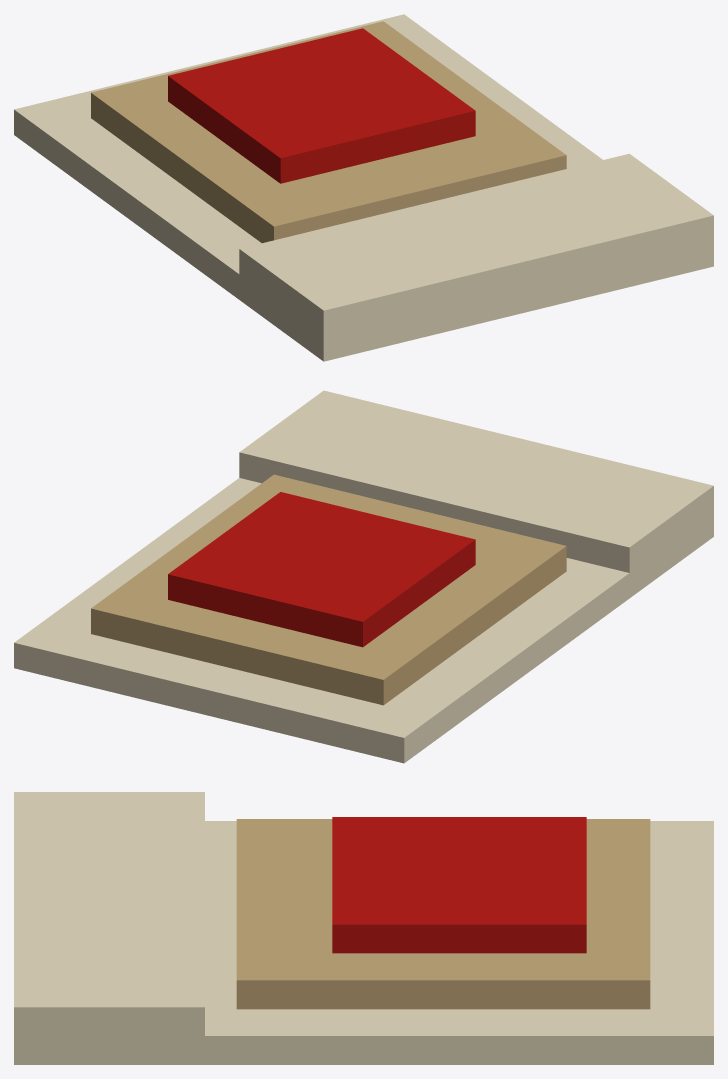
The model's file is heroin.glb.
3 renders of one model, top to bottom at view 1: azimuth 30°, elevation 25°; view 2: azimuth 150°, elevation 25°; view 3: azimuth 270°, elevation 25°, orthographic. The views are drawn at different scales.
Parts seen in each view (by area): view 1: heroin:compound; view 2: heroin:compound; view 3: heroin:compound.
Part boxes in pixels (left/top/right/bottom): heroin:compound: left=14, top=14, right=713, bottom=361; heroin:compound: left=14, top=390, right=713, bottom=763; heroin:compound: left=14, top=792, right=713, bottom=1064.
Size of the model in its own units: 0.032 by 0.006 by 0.044.
